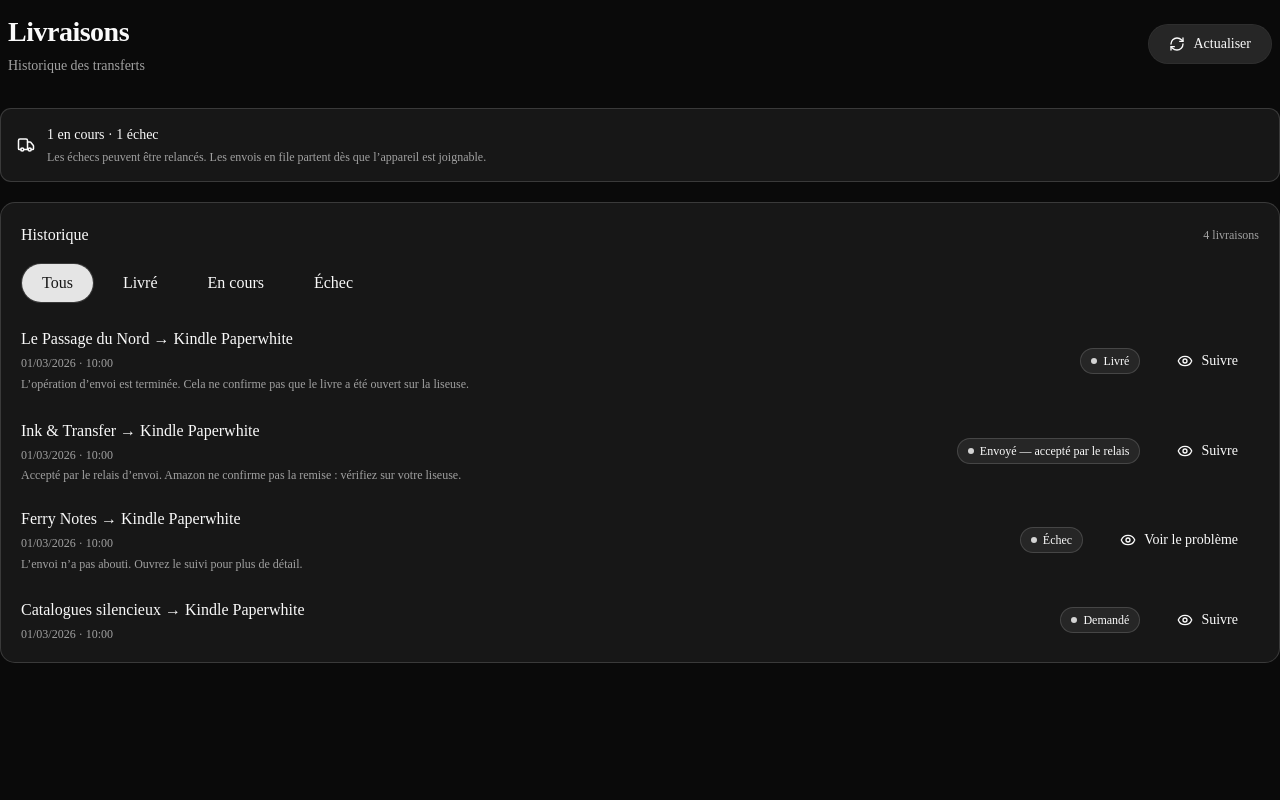
Test: UI harness — Pen deliveries composition › shows an honest queue hint from real counts and filters the list
The image size is (1280, 800).
Expected: the text "1 en cours · 1 échec" is shown, [47,127,159,142]
What coordinates should you click on to do the following:
click the button "Livré"
I would click on:
 (140, 283)
Its box is [102,263,179,303].
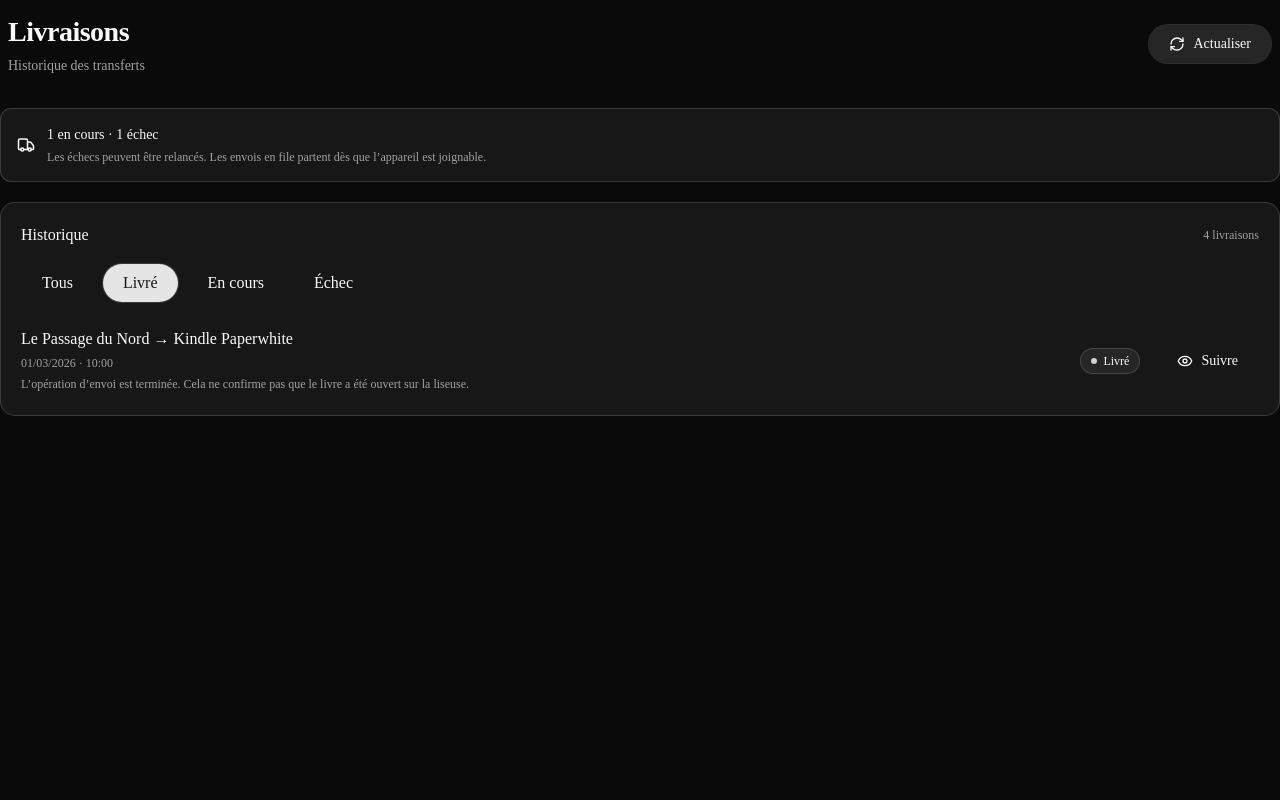
Now the number of elements with test id "delivery-status-row" is 1, box [21,315,1259,406]
Now the heading "Ink & Transfer" is gone
Now the heading "Ferry Notes" is gone
What coordinates should you click on to do the following:
click the button "En cours"
I would click on:
 (236, 283)
Its box is [186,263,285,303].
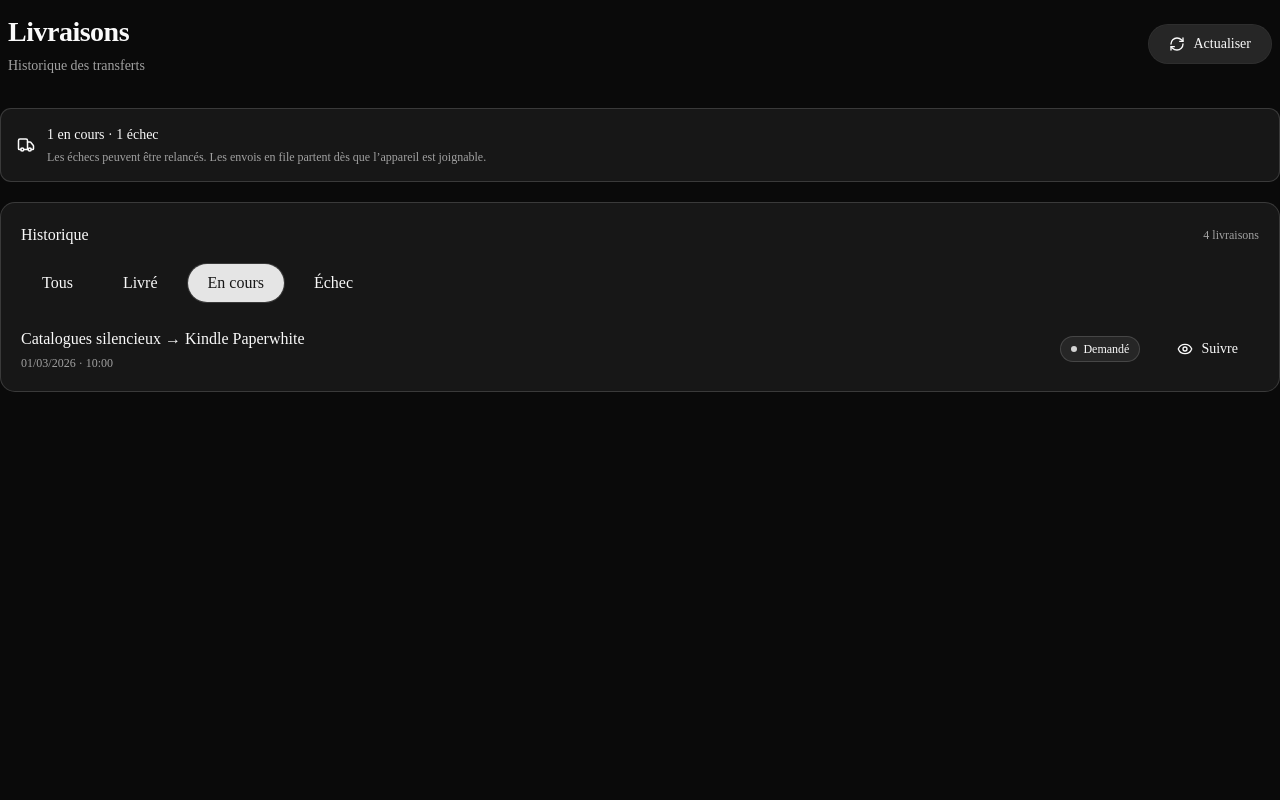
Now the number of elements with test id "delivery-status-row" is 1, box [21,315,1259,383]
Now the heading "Catalogues silencieux → Kindle Paperwhite" is shown, box [21,330,304,347]
Now the heading "Le Passage du Nord" is gone
What coordinates should you click on to do the following:
click the button "Échec"
I would click on:
 (334, 283)
Its box is [293,263,374,303].
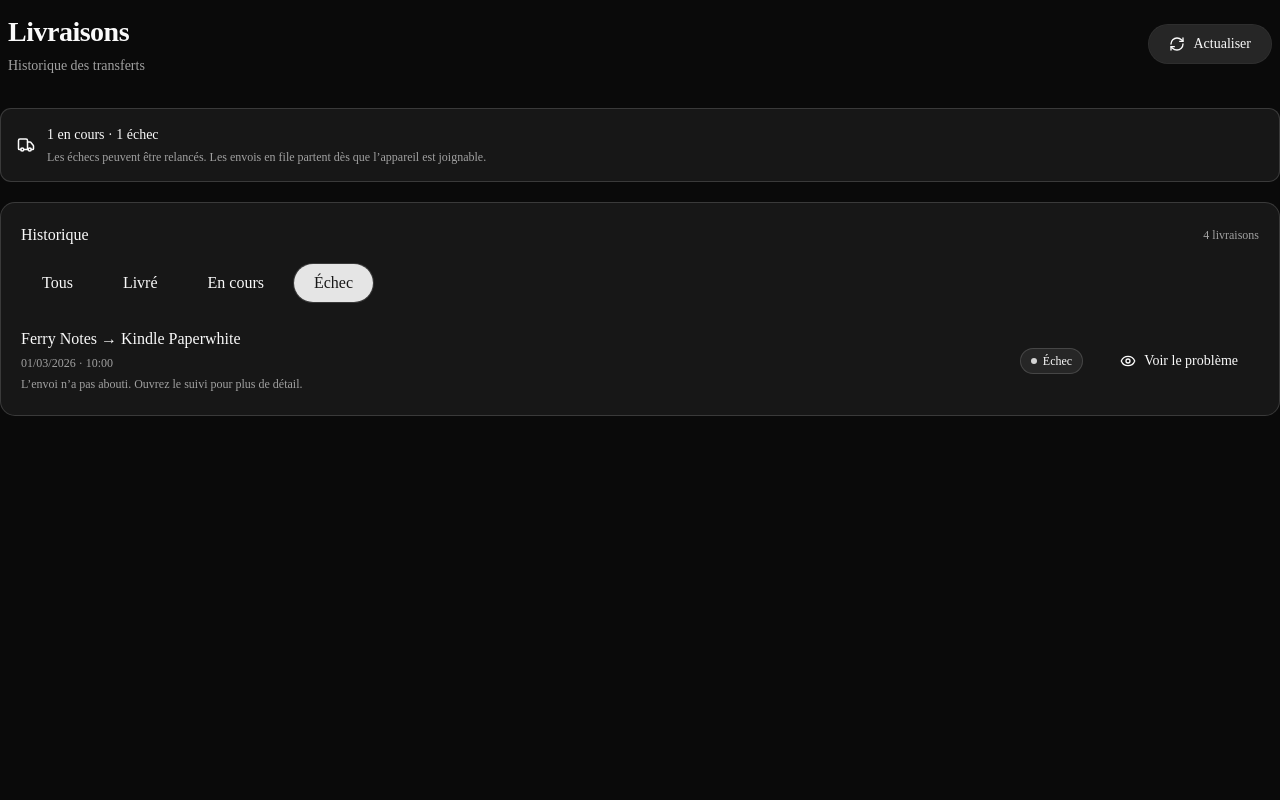
Now the number of elements with test id "delivery-status-row" is 1, box [21,315,1259,406]
Now the heading "Ferry Notes → Kindle Paperwhite" is shown, box [21,330,240,347]
Now the text "Échec" is shown, box [1043,353,1072,369]
What coordinates should you click on to do the following:
click the button "Tous"
I would click on:
 (57, 283)
Its box is [21,263,94,303].
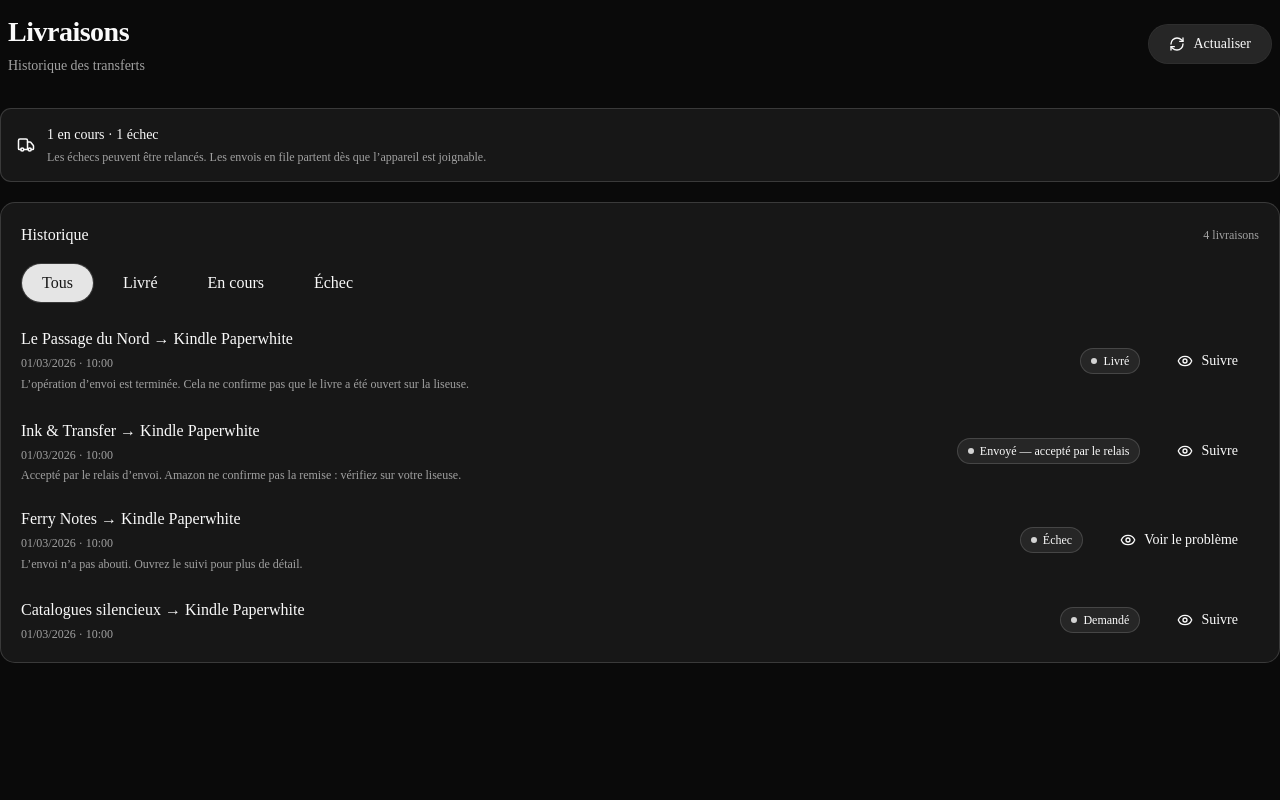
Now the number of elements with test id "delivery-status-row" is 4, box [21,315,1259,406]; [21,406,1259,494]; [21,494,1259,586]; [21,586,1259,654]
